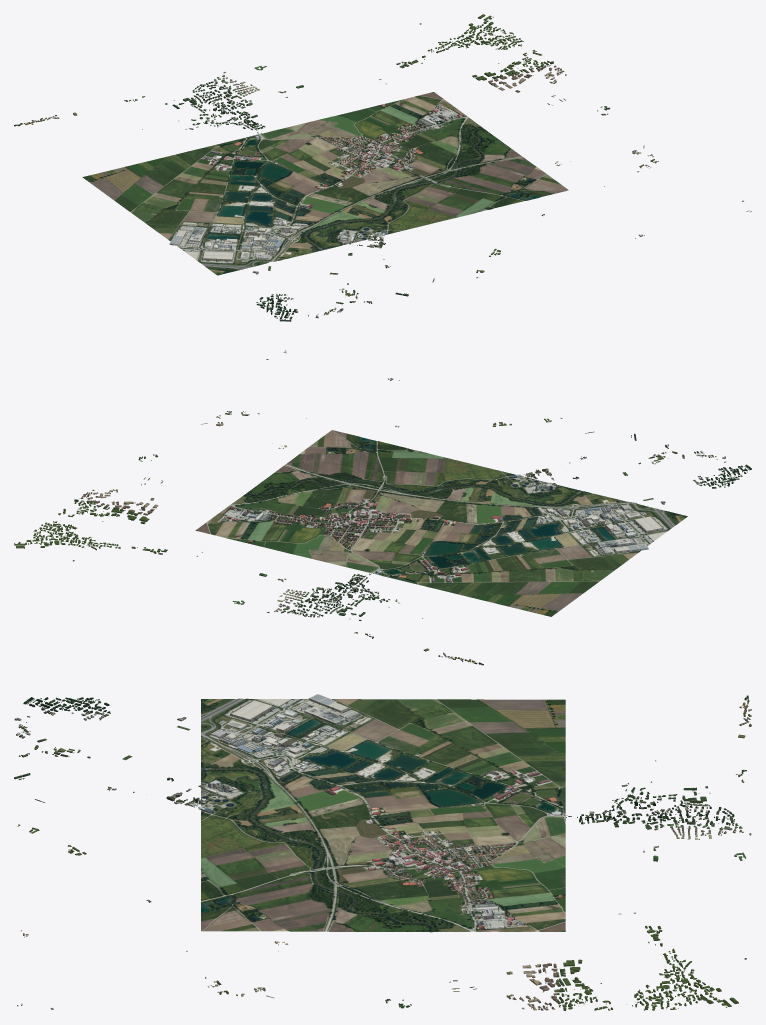
Rendered from asset.glb.
3 renders of one model, top to bottom at view 1: azimuth 30°, elevation 25°; view 2: azimuth 150°, elevation 25°; view 3: azimuth 270°, elevation 25°, orthographic. The views are drawn at different scales.
Parts seen in each view (by area): view 1: Geländemodell_DGM_10m, 3, 2, 1; view 2: Geländemodell_DGM_10m, 3, 2, 1; view 3: Geländemodell_DGM_10m, 3, 2, 1.
Boxes of the visible parts, x1,y1,x2,y2 form: Geländemodell_DGM_10m: [82, 92, 568, 275]; 3: [254, 14, 610, 167]; 2: [169, 174, 500, 321]; 1: [14, 72, 379, 197]; Geländemodell_DGM_10m: [195, 430, 687, 616]; 3: [14, 454, 378, 604]; 2: [404, 418, 751, 553]; 1: [267, 512, 522, 665]; Geländemodell_DGM_10m: [201, 698, 565, 932]; 3: [384, 850, 746, 1010]; 2: [14, 694, 386, 854]; 1: [384, 695, 751, 855].
Bounding box in the file's own units: 4046 × 71.17 × 4027.
5 materials, 5 textured.
